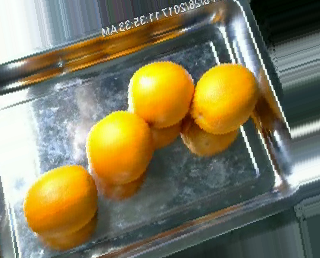Orange: (24, 165, 98, 237), (84, 108, 153, 185), (189, 62, 258, 135), (126, 59, 194, 127)
